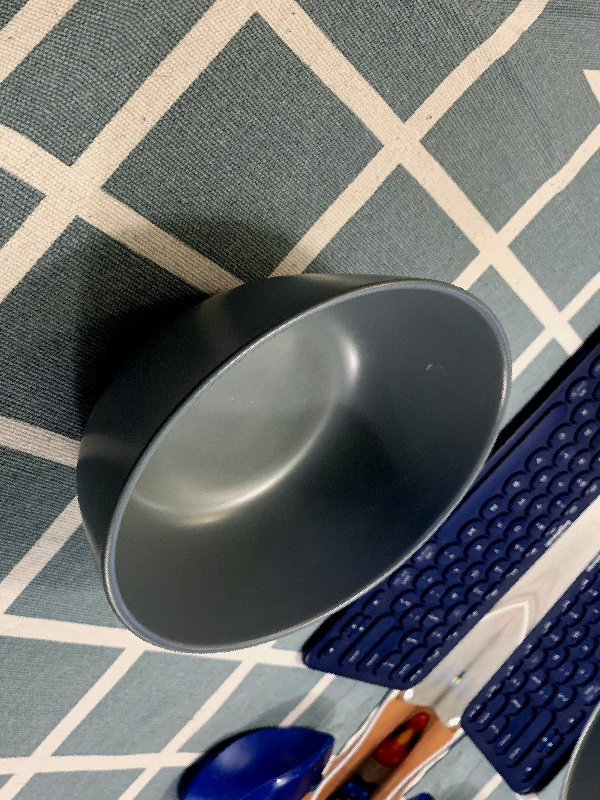bowl_big: (0, 173, 595, 726)
